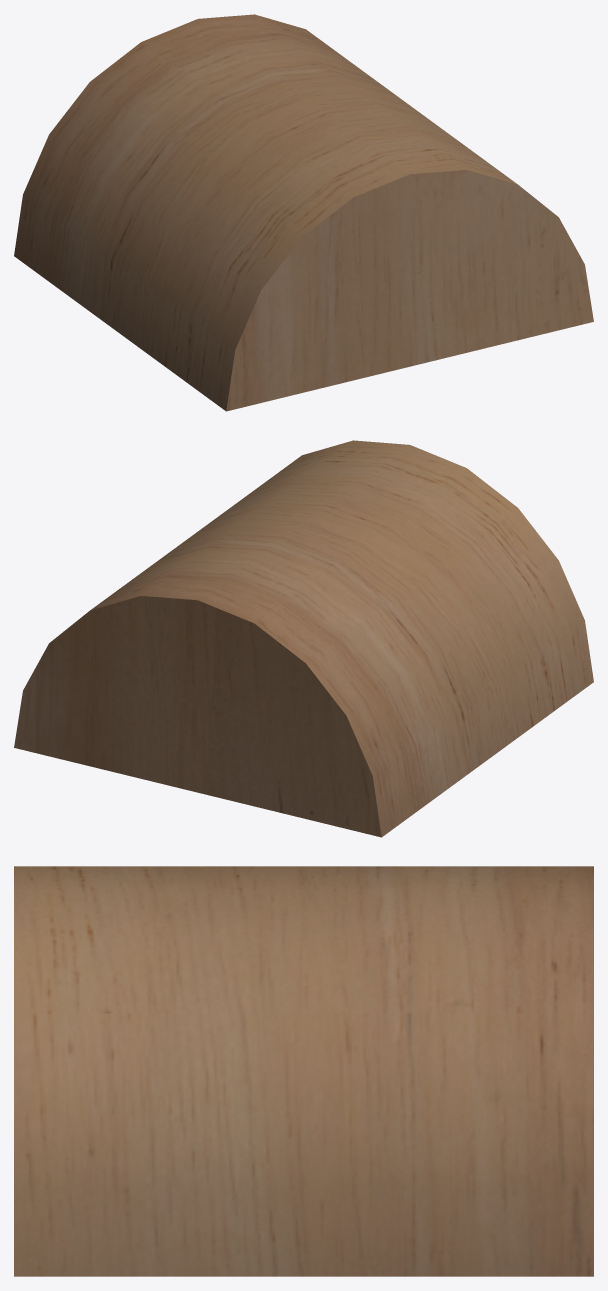
File: half-cylinder.fbx
The picture shows the model from 3 angles, top to bottom: view 1: azimuth 30°, elevation 25°; view 2: azimuth 150°, elevation 25°; view 3: azimuth 270°, elevation 25°; orthographic projection. The views are drawn at different scales.
Visible parts, largest first — view 1: pCylinder1; view 2: pCylinder1; view 3: pCylinder1.
Boxes of the visible parts, box(x1,y1,x2,y2) form: pCylinder1: box(14, 14, 593, 411); pCylinder1: box(14, 440, 593, 837); pCylinder1: box(14, 866, 593, 1276).
Size of the model in its own units: 2 by 1 by 2.
Materials: 1 (1 with a texture image).
